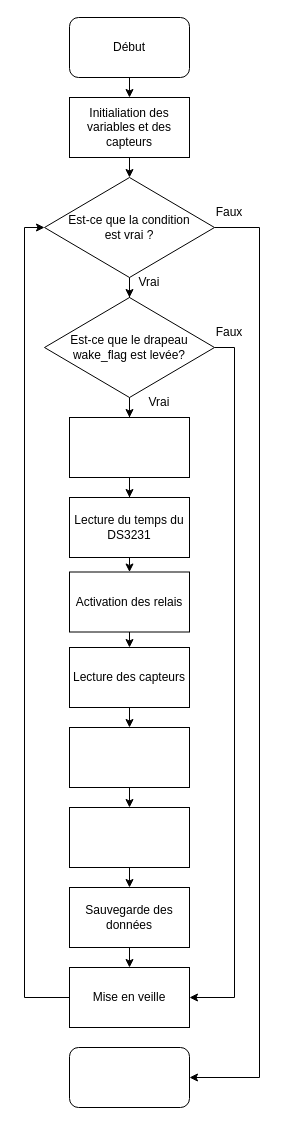
This 285x1125 diagram has some shape labels left out. Each missing label, with the centre of its shape:
"Ajout d'une somme de contrôle à la trame" belongs at point 129,837.
"Desactivation des relais" belongs at point 129,757.
"Fin" belongs at point 129,1077.
"Réinitialisation des capteurs" belongs at point 129,447.
